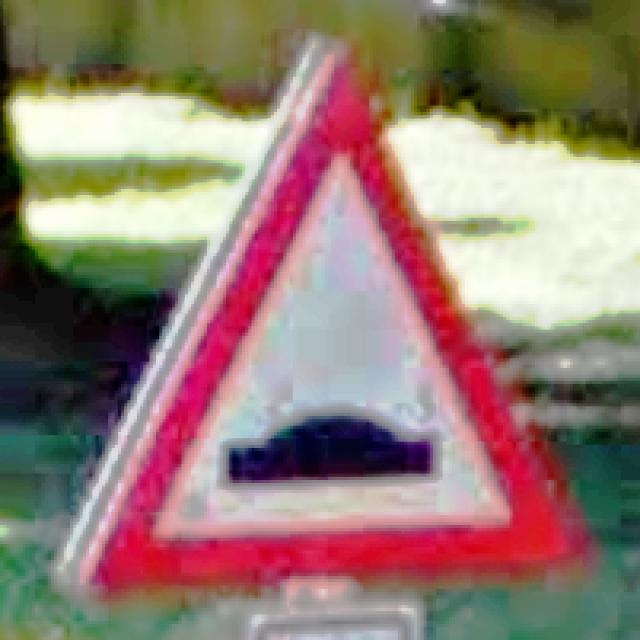hump: (87, 34, 579, 591)
